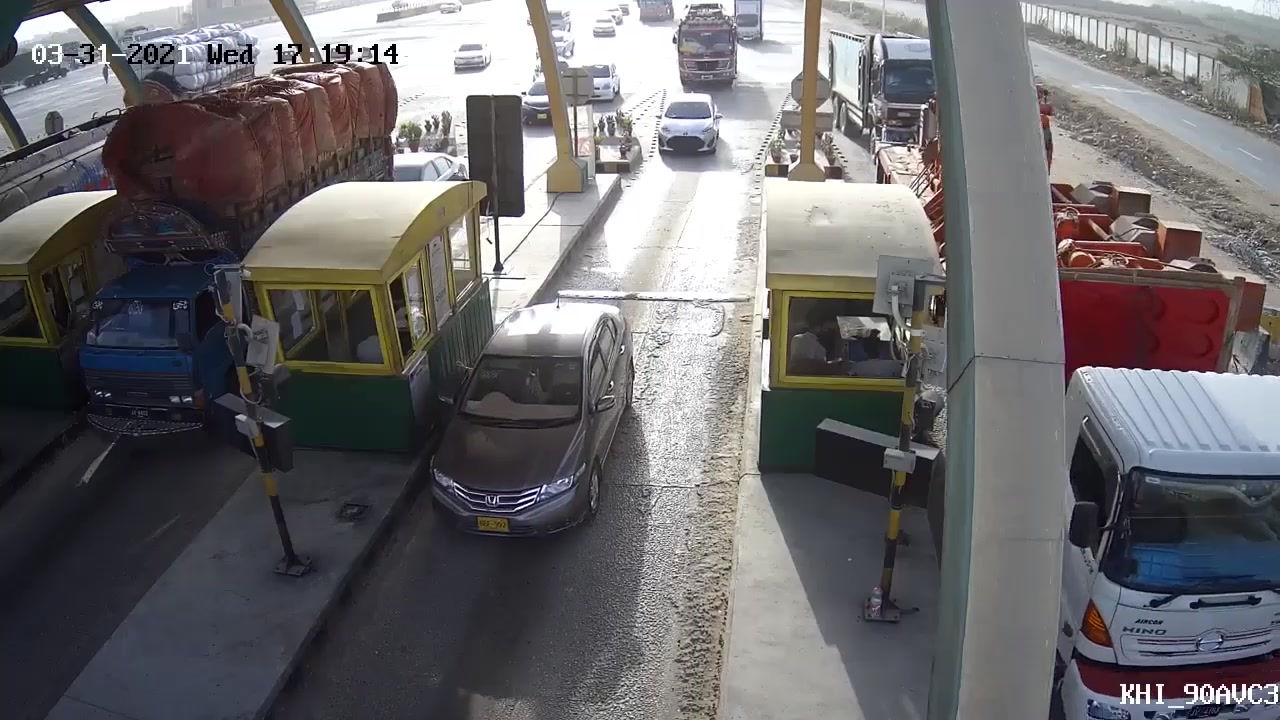F1: (414, 288, 666, 559)
